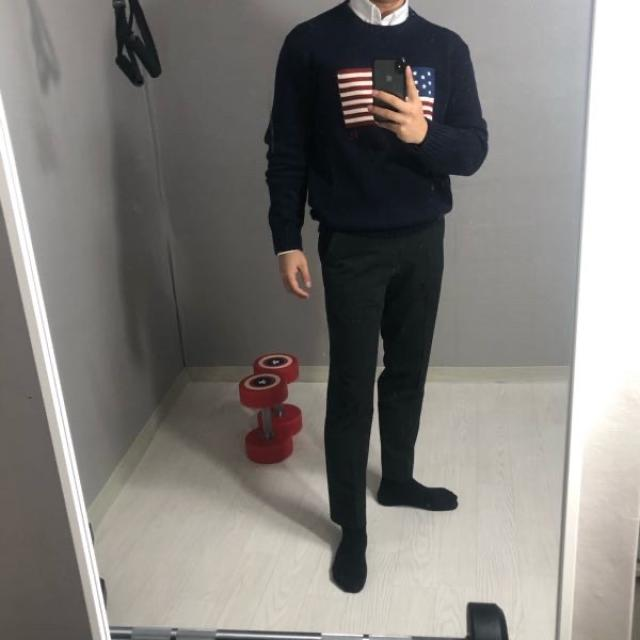slacks: (321, 218, 444, 530)
sweater: (262, 1, 486, 256)
